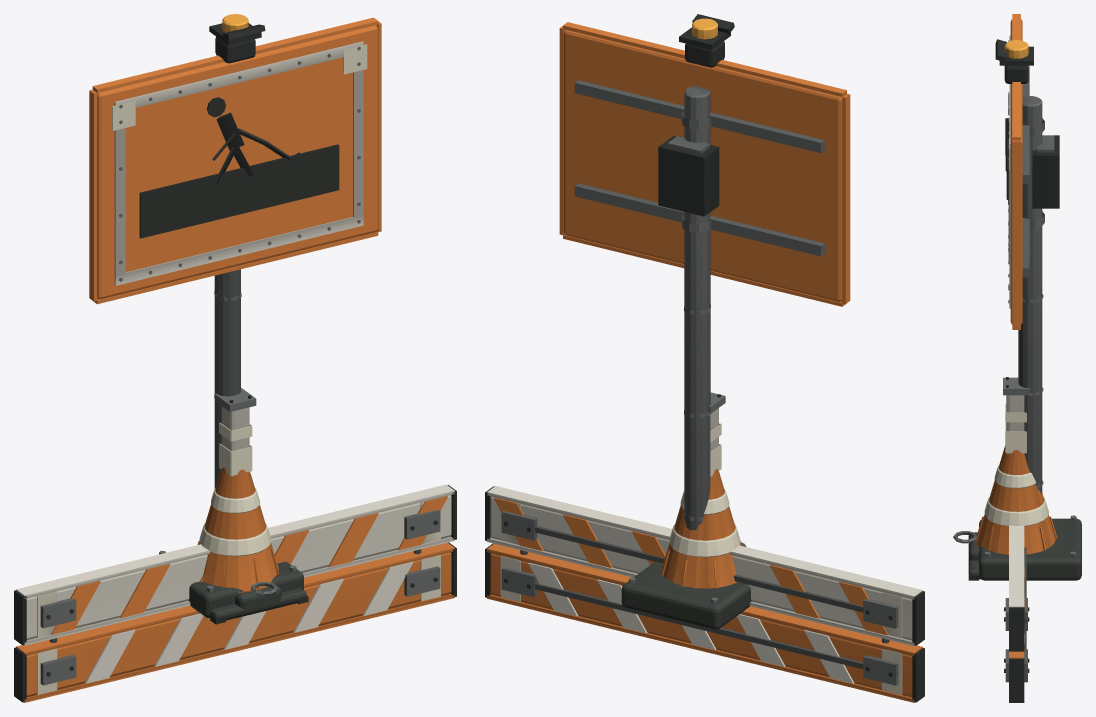
Rendered from incident-props-near.glb.
3 renders of one model, left to right at view 1: azimuth 30°, elevation 25°; view 2: azimuth 150°, elevation 25°; view 3: azimuth 270°, elevation 25°, orthographic. The views are drawn at different scales.
Parts seen in each view (by area): view 1: WorksSign, BarricadeRails, Cone, BarricadePost; view 2: WorksSign, BarricadeRails, Cone, BarricadePost; view 3: WorksSign, Cone, BarricadeRails, BarricadePost.
Boxes of the visible parts, x1,y1,x2,y2 form: WorksSign: (89,14,381,618); BarricadeRails: (14,484,456,702); Cone: (197,467,308,624); BarricadePost: (214,388,285,618); WorksSign: (559,14,850,629); BarricadeRails: (485,486,924,702); Cone: (661,469,742,588); BarricadePost: (708,392,725,476); WorksSign: (953,14,1081,580); Cone: (968,445,1057,580); BarricadeRails: (1004,448,1029,702); BarricadePost: (968,377,1030,560).
Size of the model in its own units: 2.62 by 3.63 by 0.7514.
